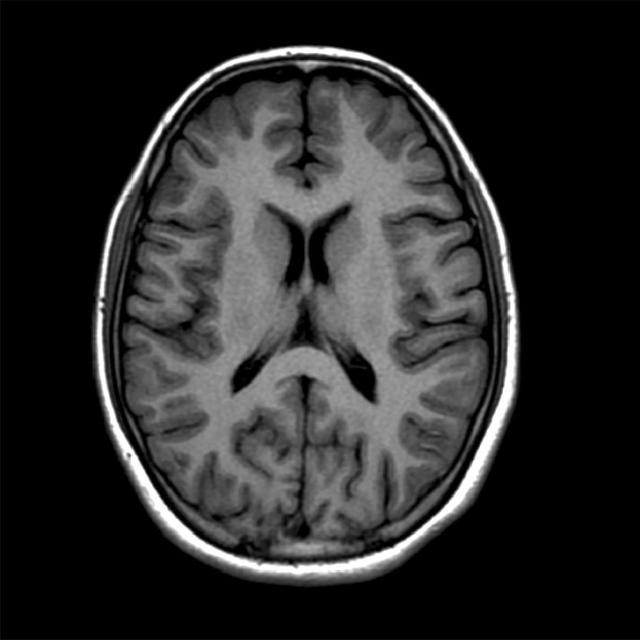No_Tumor: (95, 47, 518, 581)
